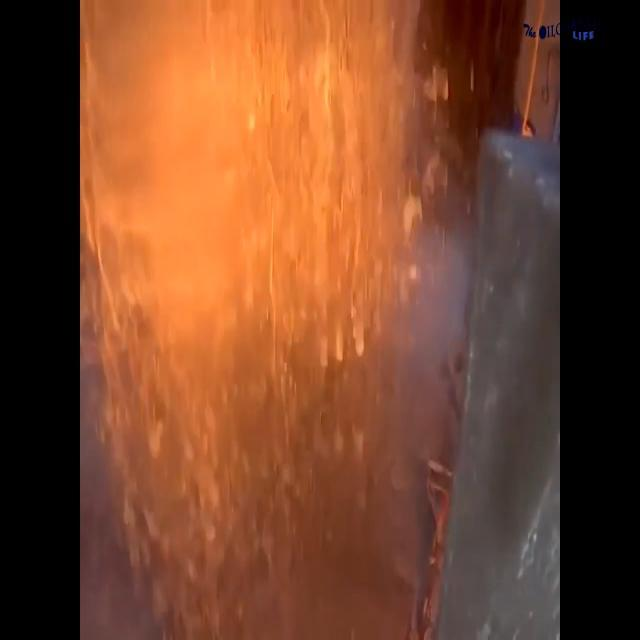spillage: (84, 2, 426, 623)
